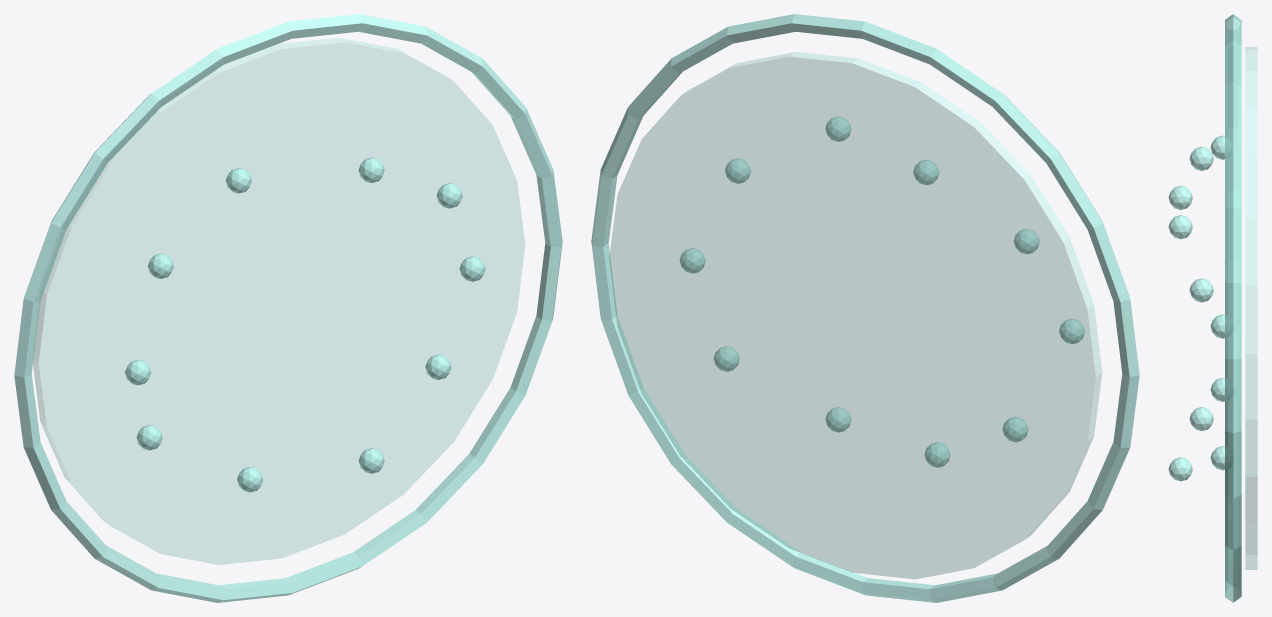
The model's file is 06_water_star_environment_overlay_6.glb.
3 renders of one model, left to right at view 1: azimuth 30°, elevation 25°; view 2: azimuth 150°, elevation 25°; view 3: azimuth 270°, elevation 25°, orthographic. The views are drawn at different scales.
Visible parts, largest first — view 1: environment_surface_disc, foam_or_star_ring; view 2: environment_surface_disc, foam_or_star_ring; view 3: foam_or_star_ring, environment_surface_disc, star_or_droplet_1, star_or_droplet_4, star_or_droplet_8, star_or_droplet_2, star_or_droplet_5, star_or_droplet_7, star_or_droplet_6, star_or_droplet_3, star_or_droplet_9, star_or_droplet_0.
Part boxes in pixels (bbox=[...]): environment_surface_disc: bbox=[33, 38, 524, 564]; foam_or_star_ring: bbox=[14, 14, 562, 602]; environment_surface_disc: bbox=[609, 52, 1101, 578]; foam_or_star_ring: bbox=[591, 14, 1139, 602]; foam_or_star_ring: bbox=[1225, 14, 1241, 602]; environment_surface_disc: bbox=[1245, 47, 1257, 569]; star_or_droplet_1: bbox=[1189, 278, 1213, 302]; star_or_droplet_4: bbox=[1189, 146, 1213, 170]; star_or_droplet_8: bbox=[1168, 457, 1192, 481]; star_or_droplet_2: bbox=[1168, 185, 1192, 209]; star_or_droplet_5: bbox=[1168, 215, 1192, 239]; star_or_droplet_7: bbox=[1189, 407, 1213, 431]; star_or_droplet_6: bbox=[1210, 314, 1224, 338]; star_or_droplet_3: bbox=[1210, 135, 1224, 159]; star_or_droplet_9: bbox=[1210, 446, 1224, 470]; star_or_droplet_0: bbox=[1210, 377, 1224, 401].
Size of the model in its own units: 1.69 by 1.69 by 0.2545.
